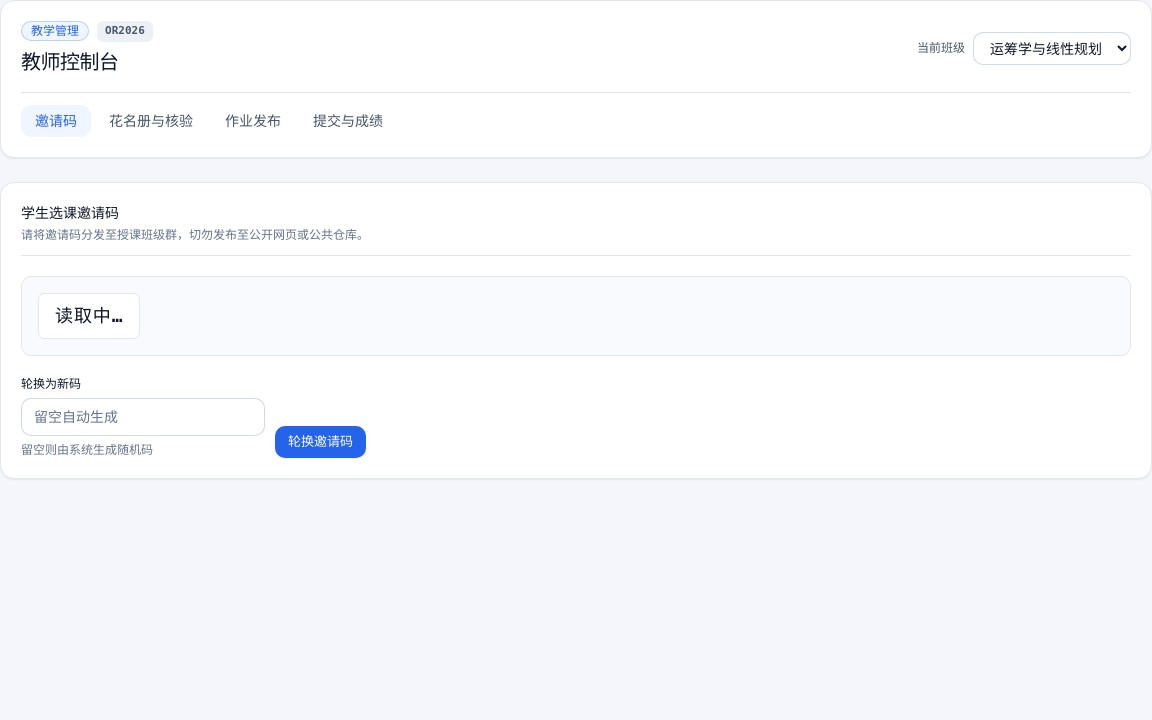
Scenario: fresh audit route fixes › TeacherPage inspect dialog renders late flag and integrity review counters
Click the button "提交与成绩": (348, 120) [299,104,397,136]
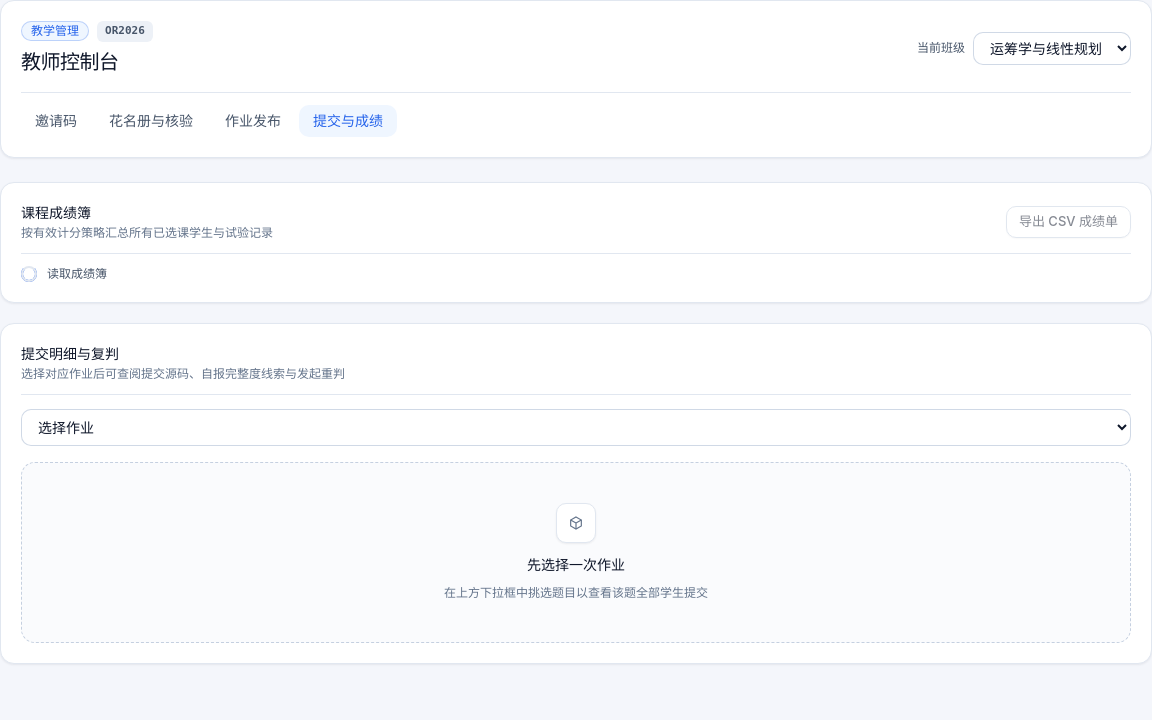
Select "P001" in the dropdown showing "选择作业": (576, 427) [21,408,1131,446]
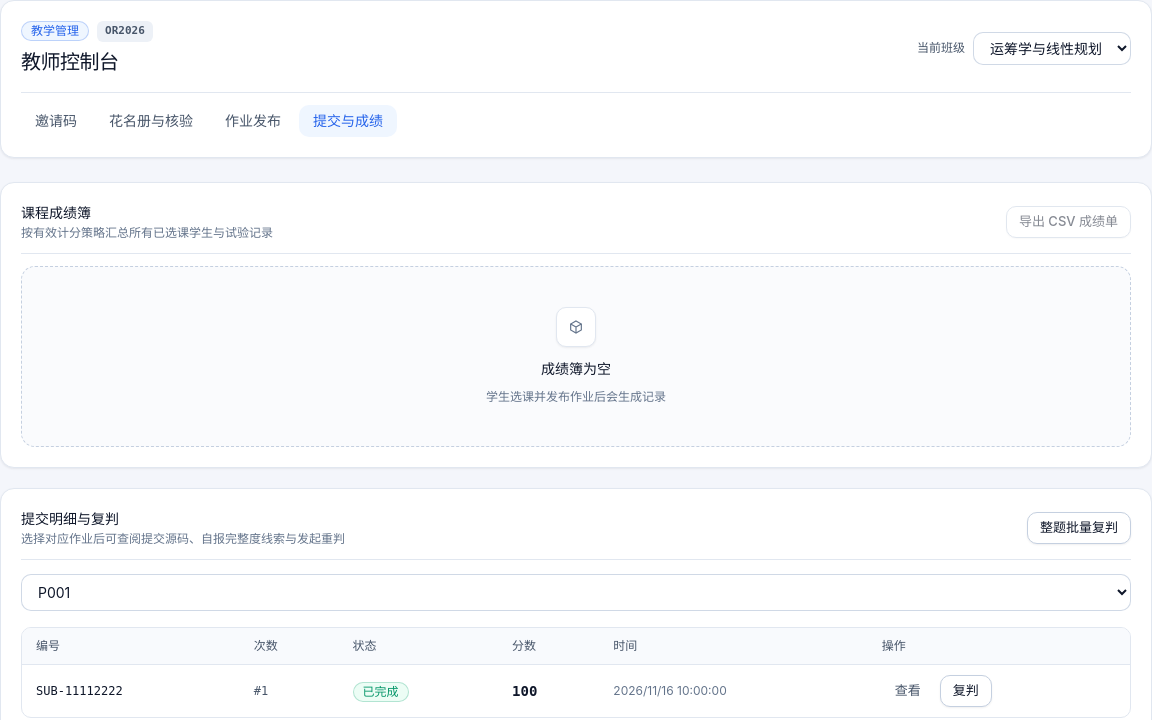
Click the button "查看": (908, 691) [882,675,934,707]
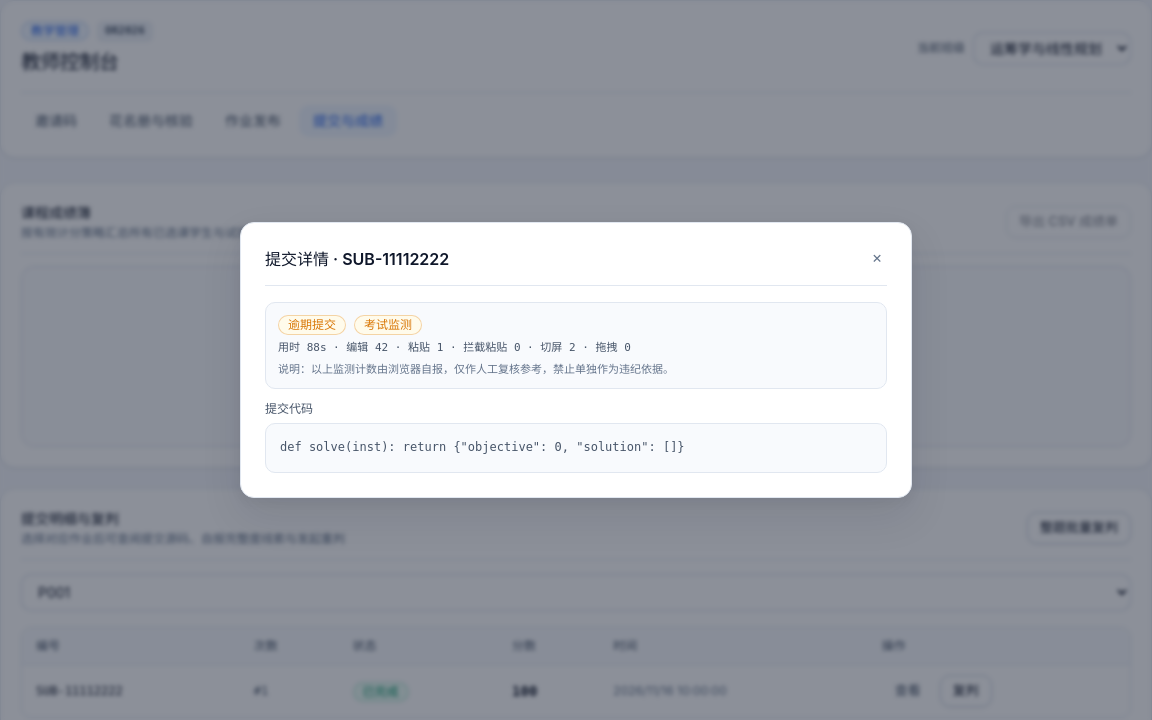
Now the text "逾期提交" is shown, box [278,315,346,335]
Now the text "用时 88s · 编辑 42 · 粘贴 1 · 拦截粘贴 0 · 切屏 2 · 拖拽 0" is shown, box [278,341,631,354]
